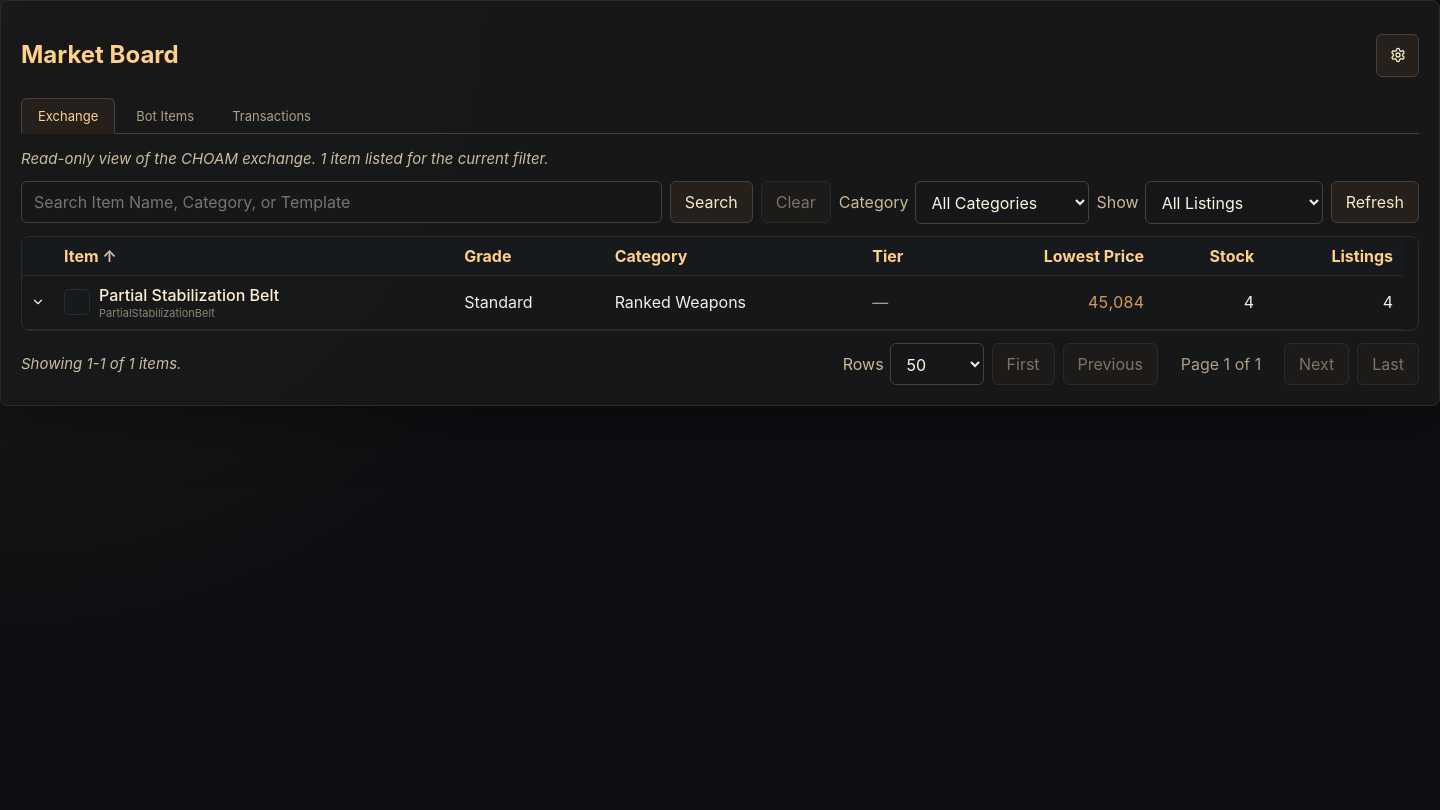
Test: ExchangePanel › opens the config overlay from the gear button
Expected: the text "Partial Stabilization Belt" is shown, x1=99 y1=285 x2=279 y2=305
Click the button named "Configure bots and blacklist" at [1398, 55], box x1=1376 y1=34 x2=1419 y2=77
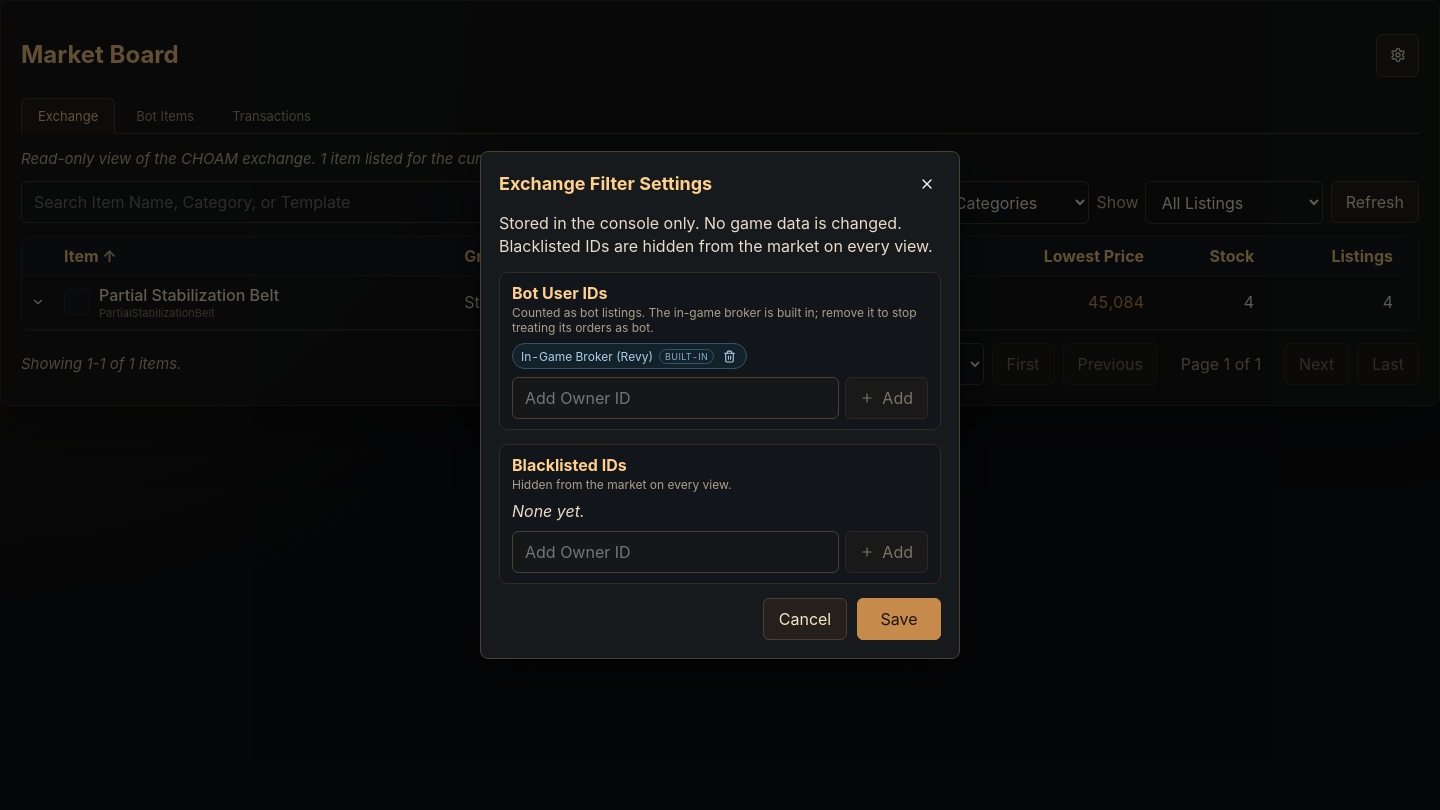
Now the heading "Exchange Filter Settings" is shown, box x1=499 y1=173 x2=712 y2=194
